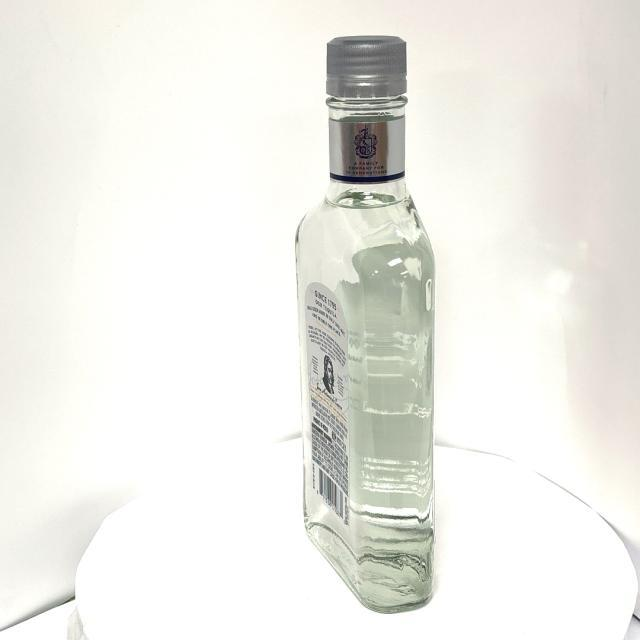JOSE CUERVO SILVER 375ML: (293, 36, 436, 617)
